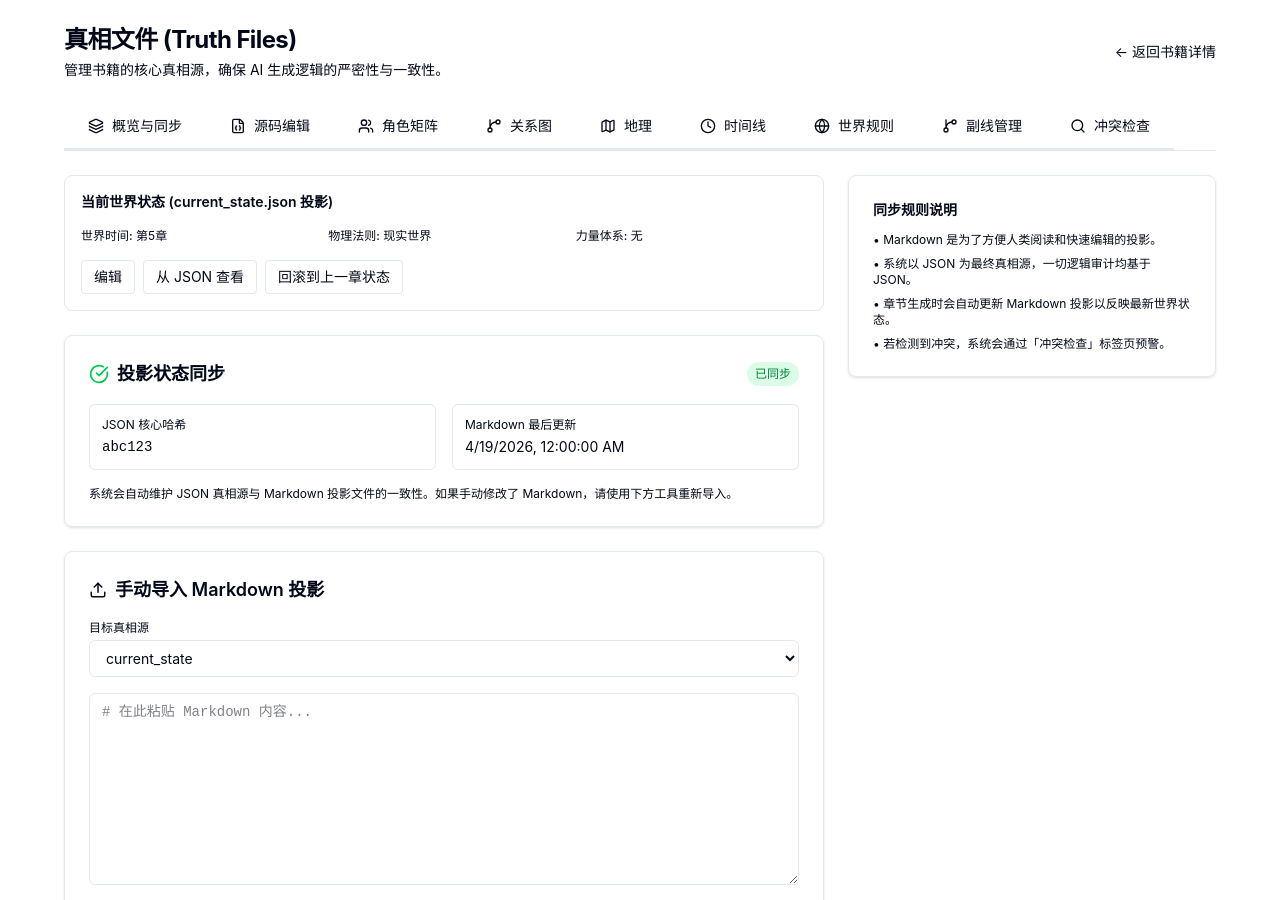
Test: TruthFiles Page › 从概览卡片直接进入 current_state 编辑模式
Expected: the heading "当前世界状态 (current_state.json 投影)" is shown, [81,193,333,210]
Step 1. Click the button "编辑" → (108, 277), box [81,260,135,294]
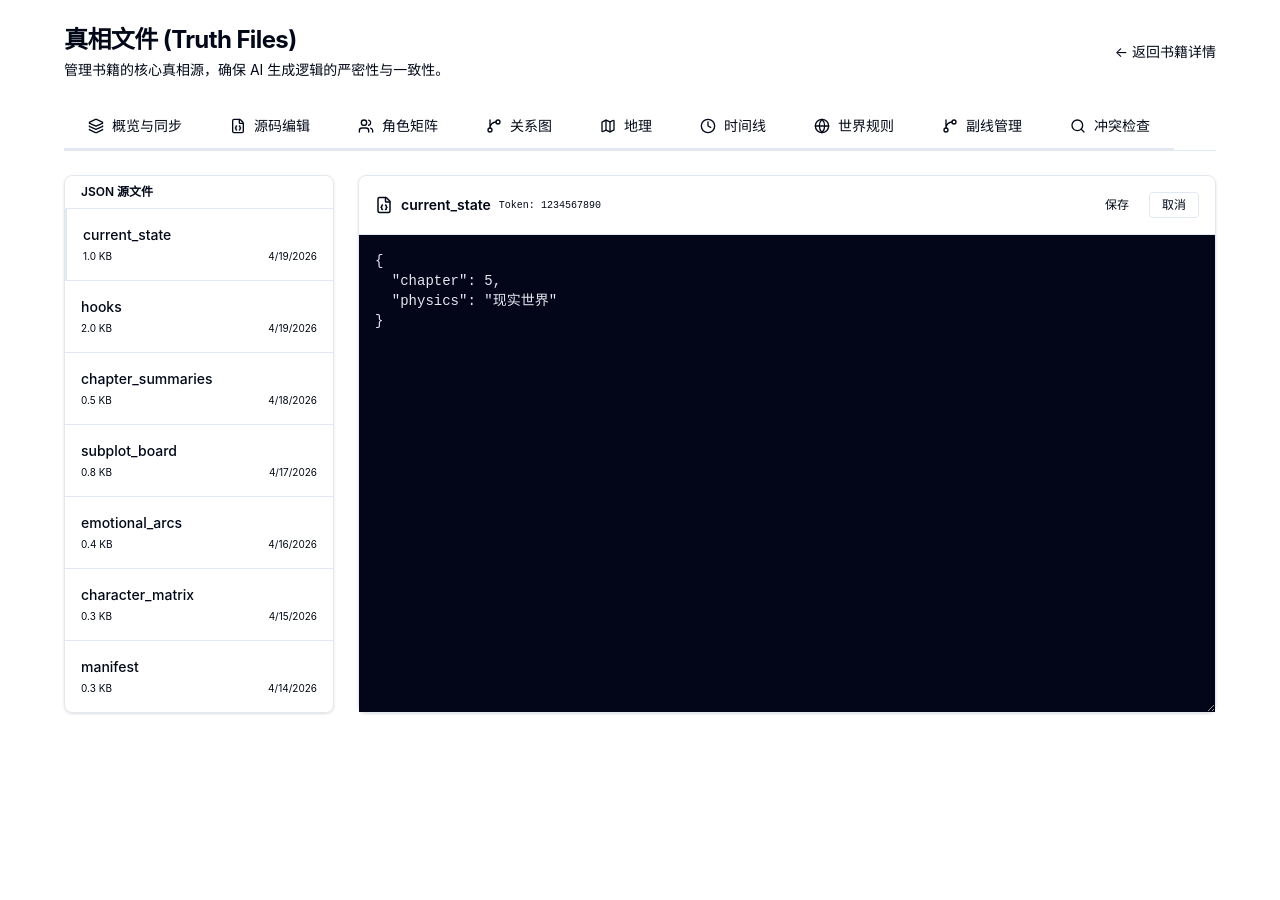
Expected: the button "保存" is shown, [1093,192,1141,218]
